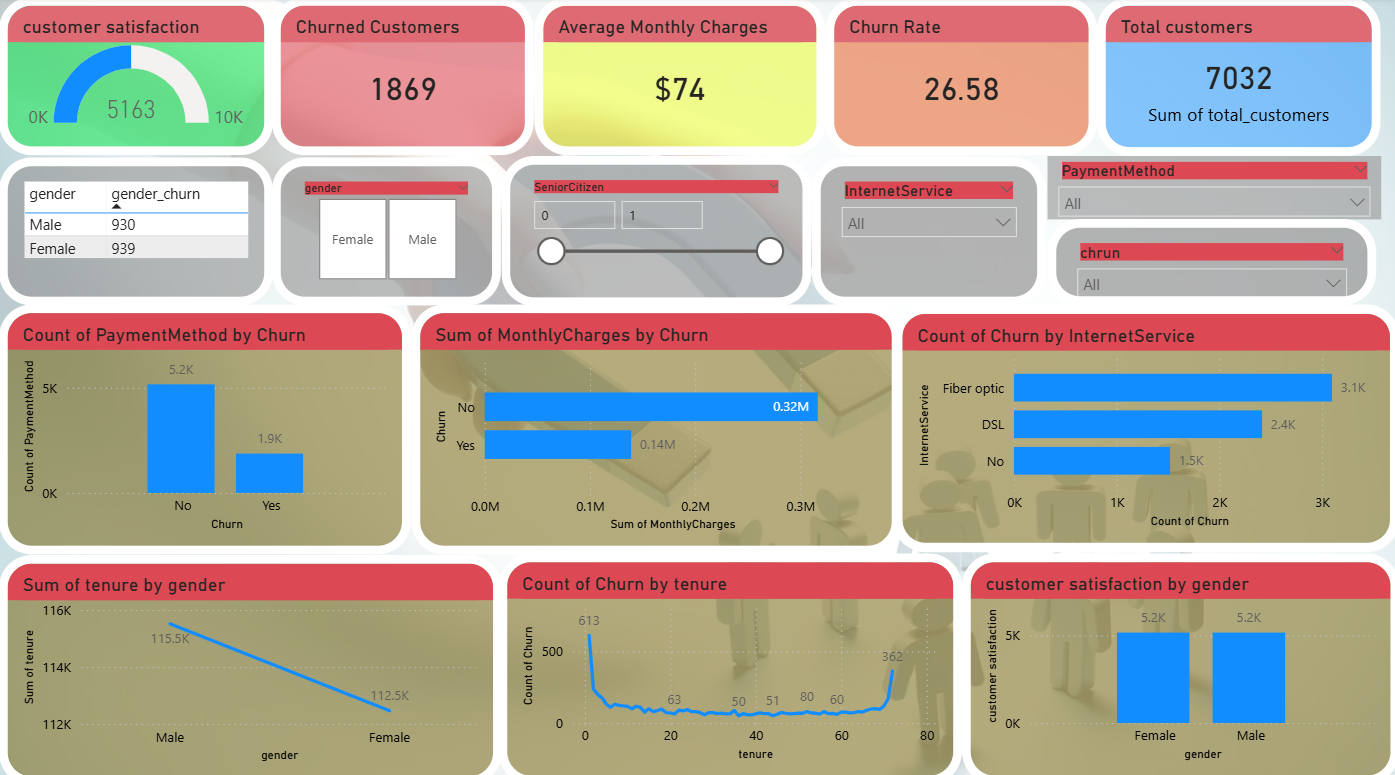

What the dashboard file says about the page in this screenshot:
{"tool":"powerbi","page":{"name":"Page 1","canvas":[1280,720],"ordinal":0},"visuals":[{"type":"card","title":"Churned Customers","fields":{"Values":["Sum(churn_number.lost_members)"]},"box":[250.4,0,239.4,144.9],"z":0},{"type":"card","title":"Average Monthly Charges","fields":{"Values":["Sum(montly_charges.column1)"]},"box":[489.9,0,266.2,144.9],"z":1000},{"type":"card","title":"Total customers","fields":{"Values":["Sum(total_customers.total_customers)"]},"box":[1004.5,0,259.4,145.5],"z":2000},{"type":"card","title":"Churn Rate","fields":{"Values":["churn_number.Measure"]},"box":[756,0,248.9,144.9],"z":3000},{"type":"lineChart","fields":{"Category":["customer_chrun_data.gender"],"Y":["Sum(customer_chrun_data.tenure)"]},"box":[0,510.4,459.7,210.6],"z":4000},{"type":"columnChart","fields":{"Y":["CountNonNull(customer_chrun_data.PaymentMethod)"],"Category":["customer_chrun_data.Churn"]},"box":[0,281.9,376.4,228.4],"z":5000},{"type":"gauge","fields":{"Y":["churn_number.satisy"]},"box":[0,0,250.4,144.9],"z":6000},{"type":"columnChart","fields":{"Category":["customer_chrun_data.gender"],"Y":["churn_number.satisy"]},"box":[880.5,508.8,400.1,211.1],"z":7000},{"type":"barChart","fields":{"Category":["customer_chrun_data.InternetService"],"Y":["CountNonNull(customer_chrun_data.Churn)"]},"box":[817.5,281.9,463.1,226.8],"z":8000},{"type":"barChart","fields":{"Category":["customer_chrun_data.Churn"],"Y":["Sum(customer_chrun_data.MonthlyCharges)"]},"box":[376.7,281.5,447.6,228.9],"z":9000},{"type":"lineChart","fields":{"Category":["customer_chrun_data.tenure"],"Y":["CountNonNull(customer_chrun_data.Churn)"]},"box":[456.8,508.8,423.7,211.1],"z":10000},{"type":"tableEx","title":"customer count by Gender","fields":{"Values":["customer count by Gender.gender","customer count by Gender.gender_churn"]},"box":[0,146.5,250.4,135.5],"z":11000},{"type":"slicer","fields":{"Values":["customer count by Gender.gender"]},"box":[250.4,146.5,209.5,135.5],"z":12000},{"type":"slicer","fields":{"Values":["customer_chrun_data.InternetService"]},"box":[743.4,146.5,214.2,135.5],"z":13000},{"type":"slicer","fields":{"Values":["customer_chrun_data.PaymentMethod"]},"box":[959.2,144.9,305.6,58.3],"z":14000},{"type":"slicer","fields":{"Values":["customer_chrun_data.SeniorCitizen"]},"box":[459.9,144.9,283.5,137],"z":15000},{"type":"slicer","fields":{"Values":["churn_rate.chrun"]},"box":[959.2,203.2,300.8,78.8],"z":15001}]}

Visuals, with their boxes in screenshot pixels (x1, y1, x2, y2), scaled from the page's 1280x720 canvas onto the 1395x775 screenshot:
"Churned Customers" card: <region>273, 0, 534, 156</region>
"Average Monthly Charges" card: <region>534, 0, 824, 156</region>
"Total customers" card: <region>1095, 0, 1377, 157</region>
"Churn Rate" card: <region>824, 0, 1095, 156</region>
lineChart - customer_chrun_data.gender x Sum(customer_chrun_data.tenure): <region>0, 549, 501, 774</region>
columnChart - CountNonNull(customer_chrun_data.PaymentMethod) x customer_chrun_data.Churn: <region>0, 303, 410, 549</region>
gauge - churn_number.satisy: <region>0, 0, 273, 156</region>
columnChart - customer_chrun_data.gender x churn_number.satisy: <region>960, 548, 1394, 774</region>
barChart - customer_chrun_data.InternetService x CountNonNull(customer_chrun_data.Churn): <region>891, 303, 1394, 548</region>
barChart - customer_chrun_data.Churn x Sum(customer_chrun_data.MonthlyCharges): <region>411, 303, 898, 549</region>
lineChart - customer_chrun_data.tenure x CountNonNull(customer_chrun_data.Churn): <region>498, 548, 960, 774</region>
"customer count by Gender" tableEx: <region>0, 158, 273, 304</region>
slicer - customer count by Gender.gender: <region>273, 158, 501, 304</region>
slicer - customer_chrun_data.InternetService: <region>810, 158, 1044, 304</region>
slicer - customer_chrun_data.PaymentMethod: <region>1045, 156, 1378, 219</region>
slicer - customer_chrun_data.SeniorCitizen: <region>501, 156, 810, 303</region>
slicer - churn_rate.chrun: <region>1045, 219, 1373, 304</region>
